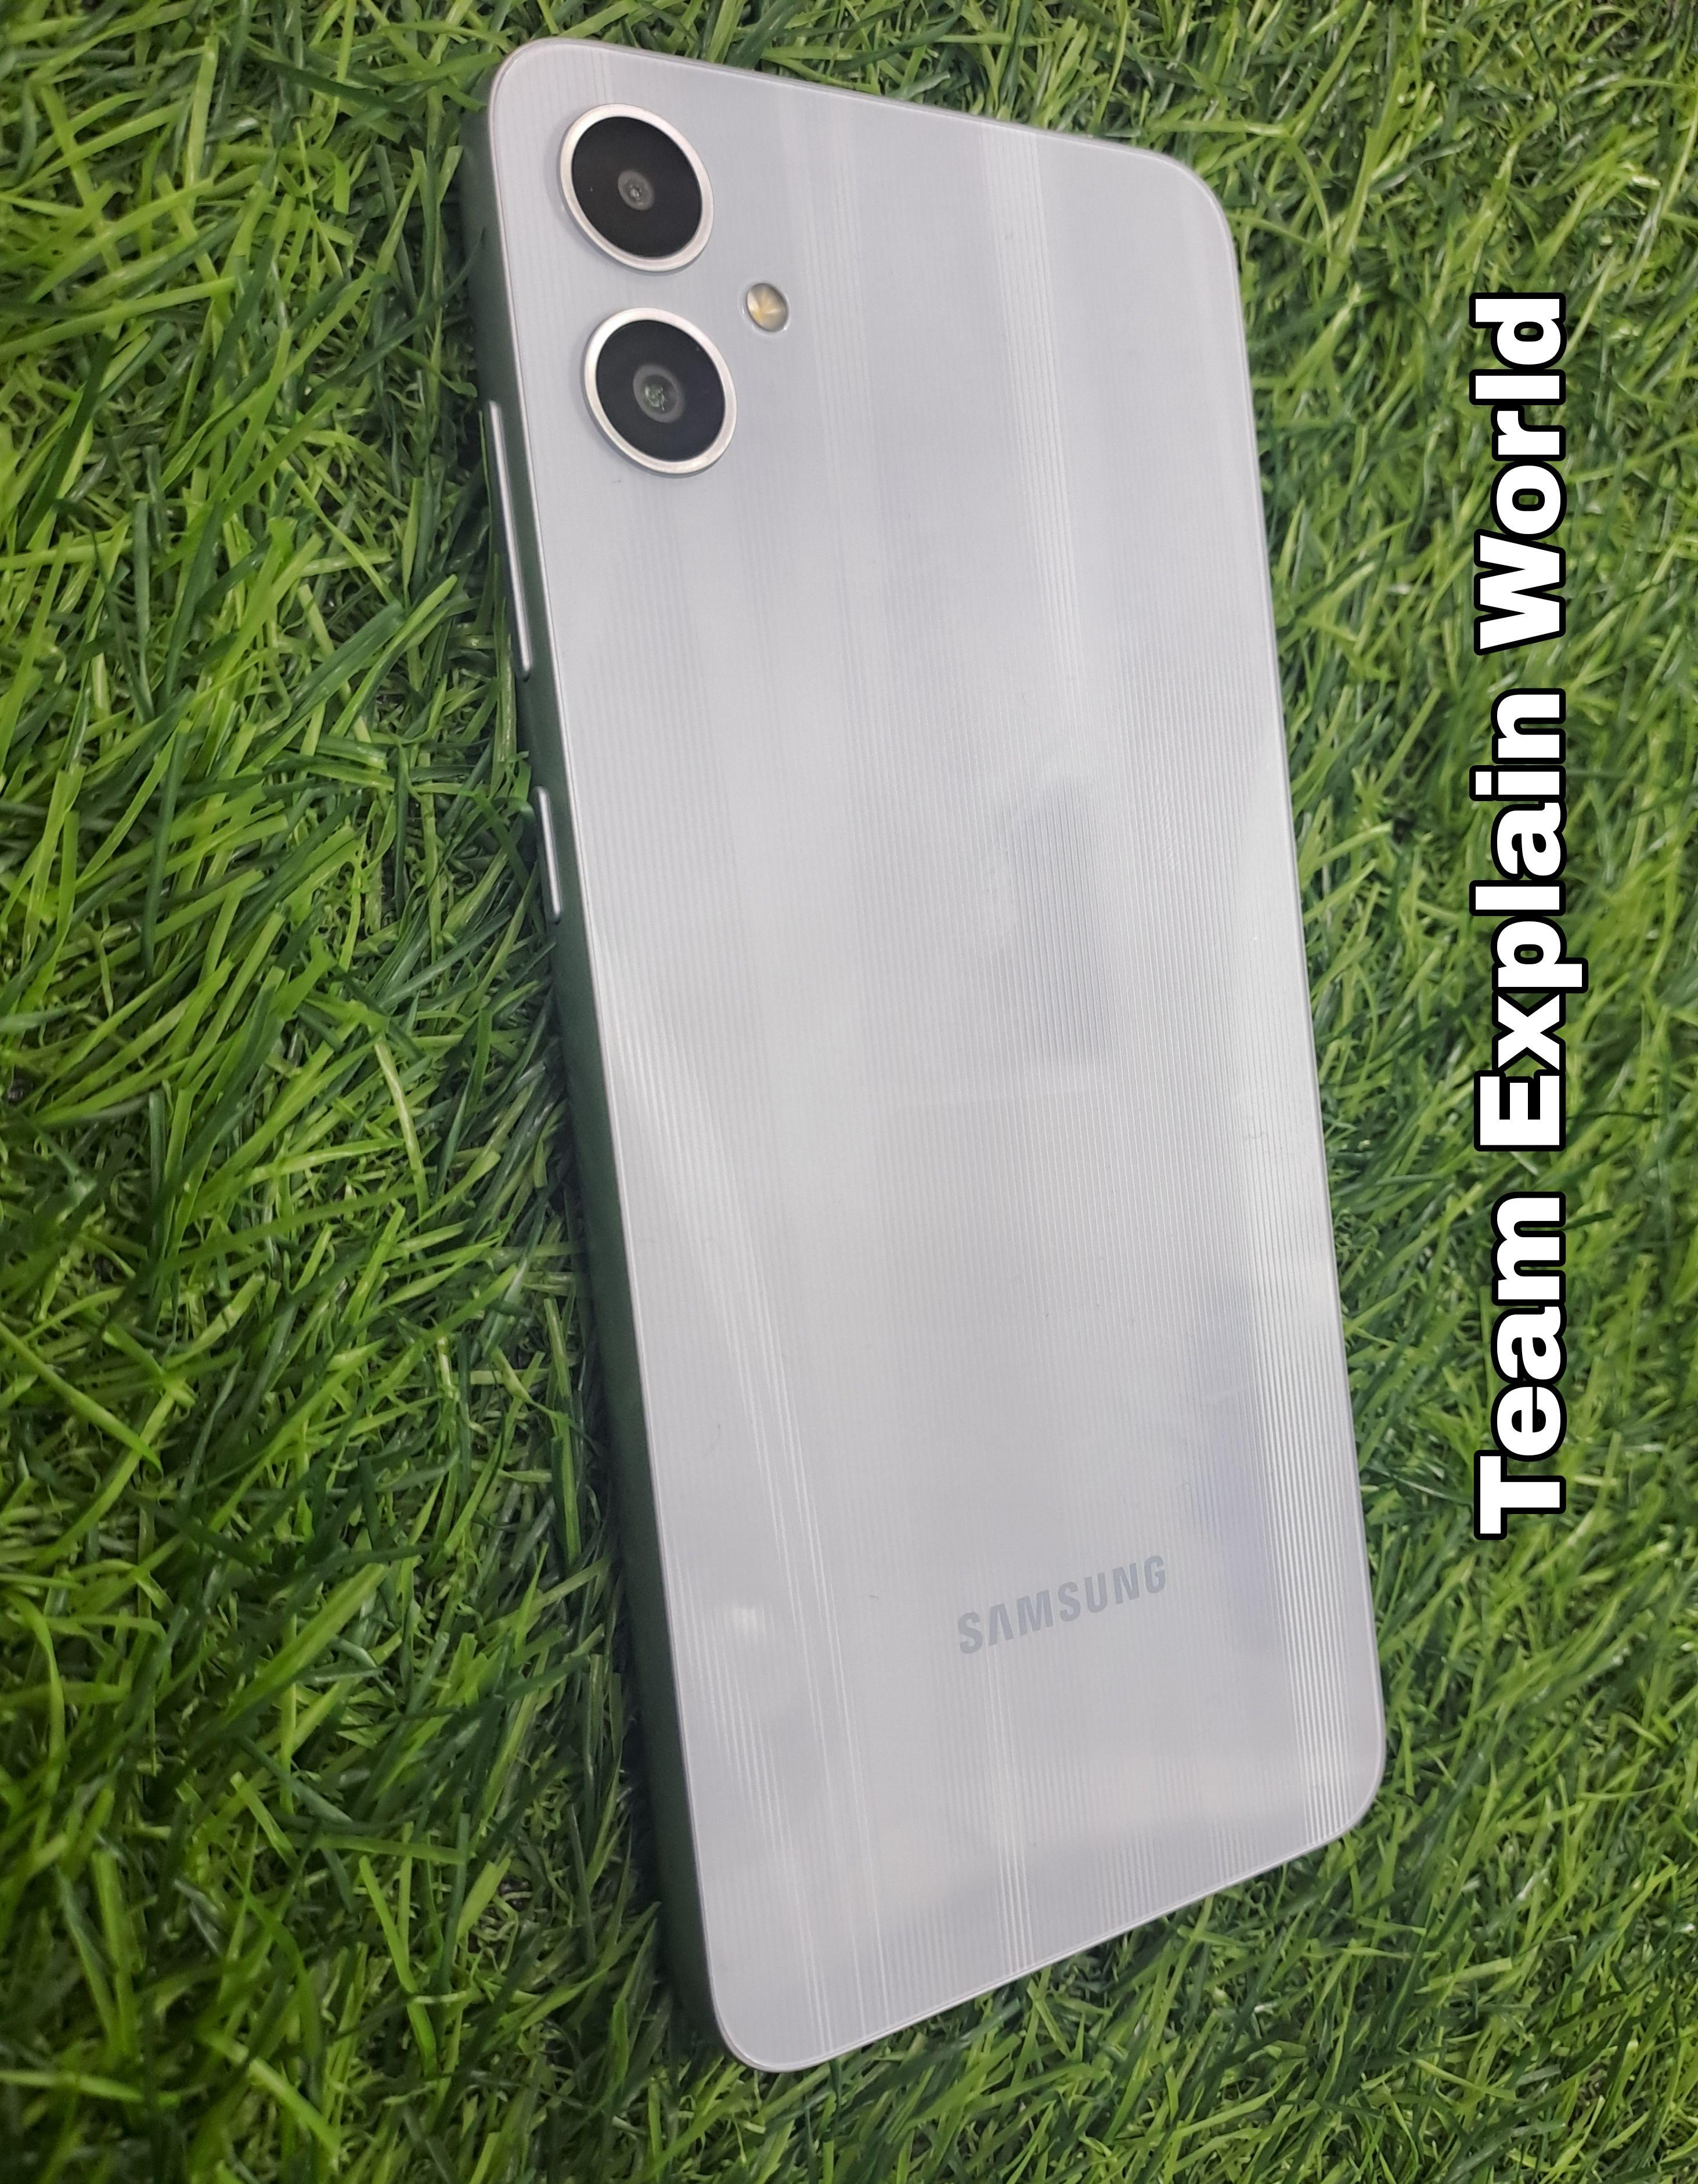Phone: (476, 42, 1408, 2082)
